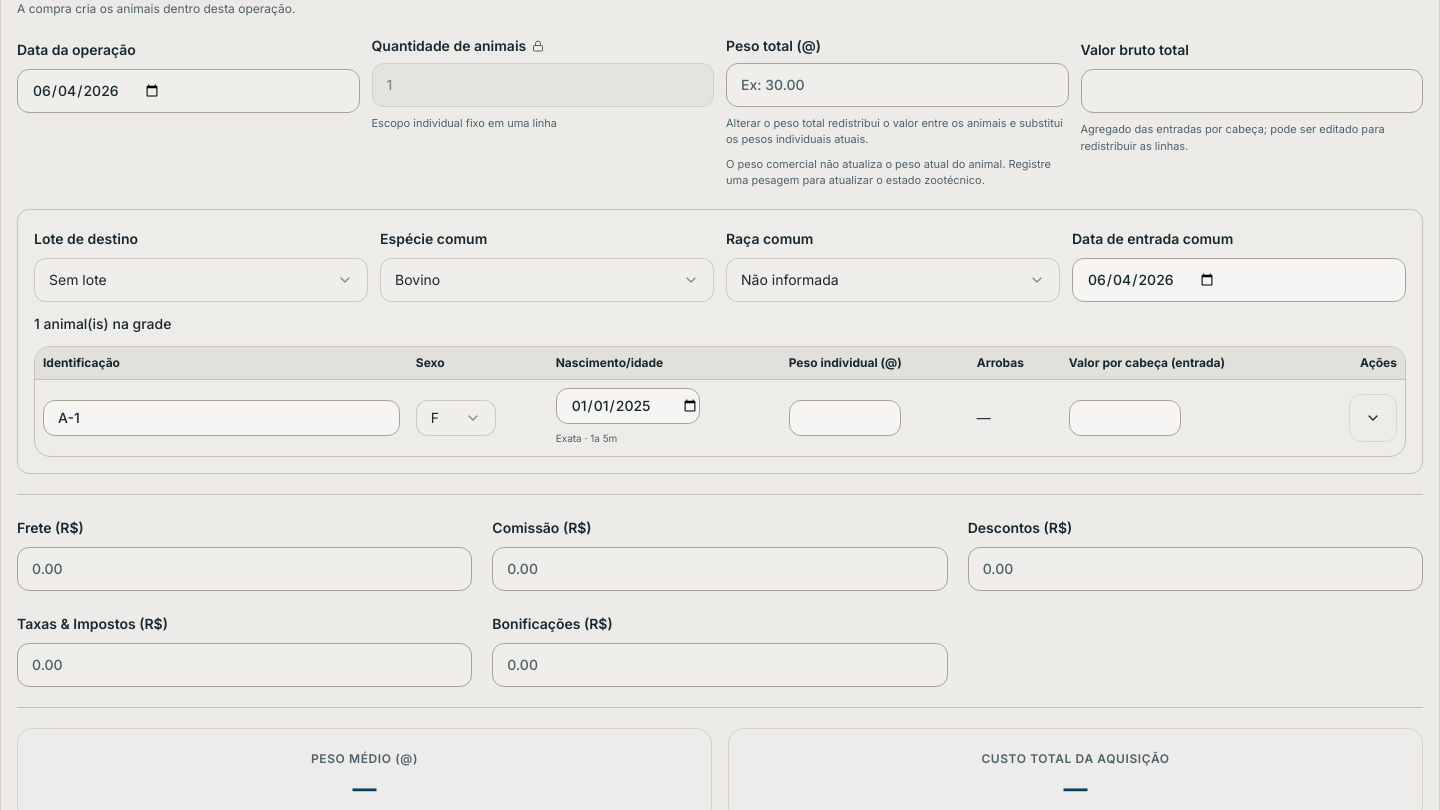
Test case: RegistrarComercialSection › identifica nascimento exato e categoria somente quando derivável
(page scrolled)
Step 1. Type "2025-03-04" into the date field named "Nascimento animal 1" → (628, 406), box [556,388,700,424]
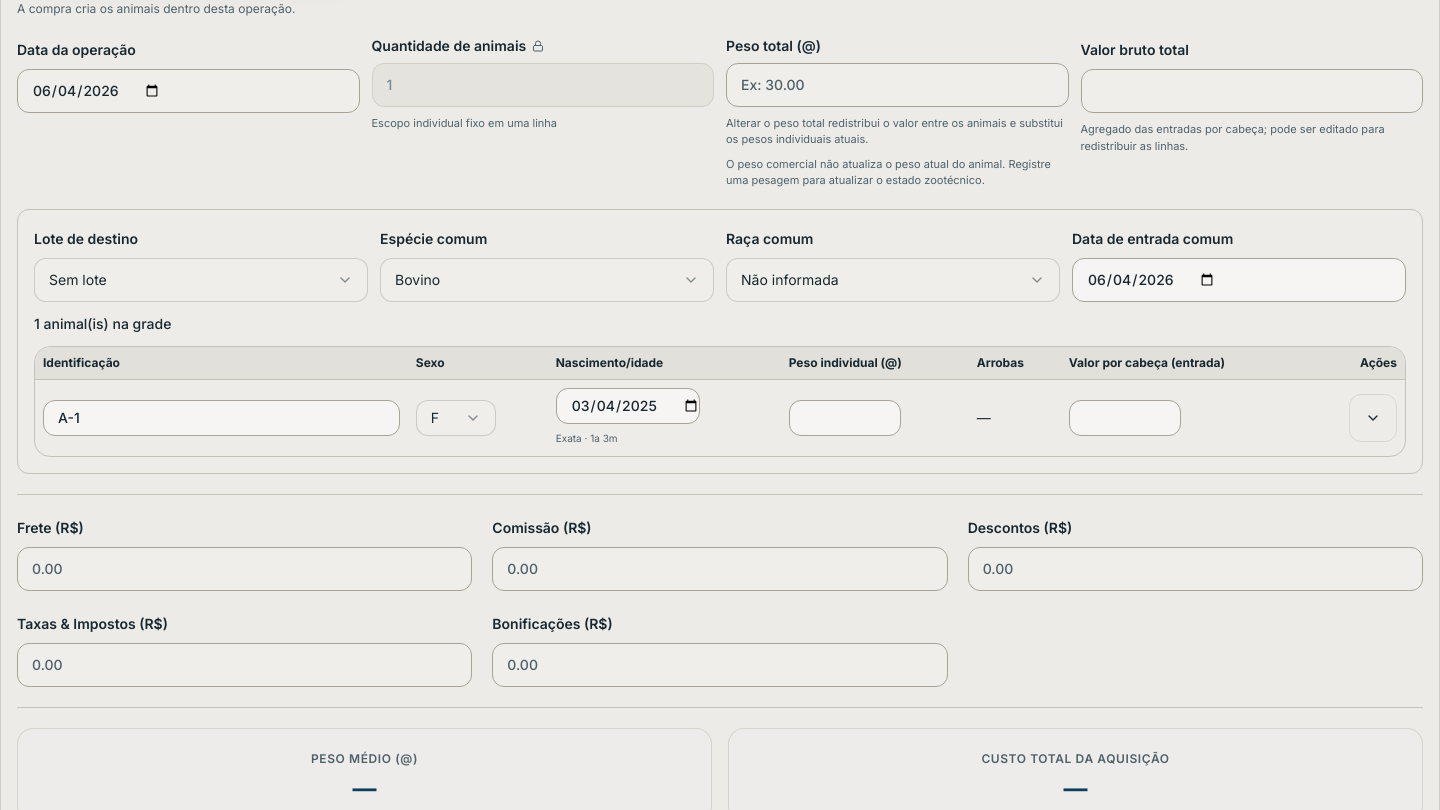
Expected: the text "Exata · 1a 3m" is shown, [556,432,618,444]
Step 2. Click the button named "Detalhes animal 1" → click(1373, 418), box [1349,394,1397,442]
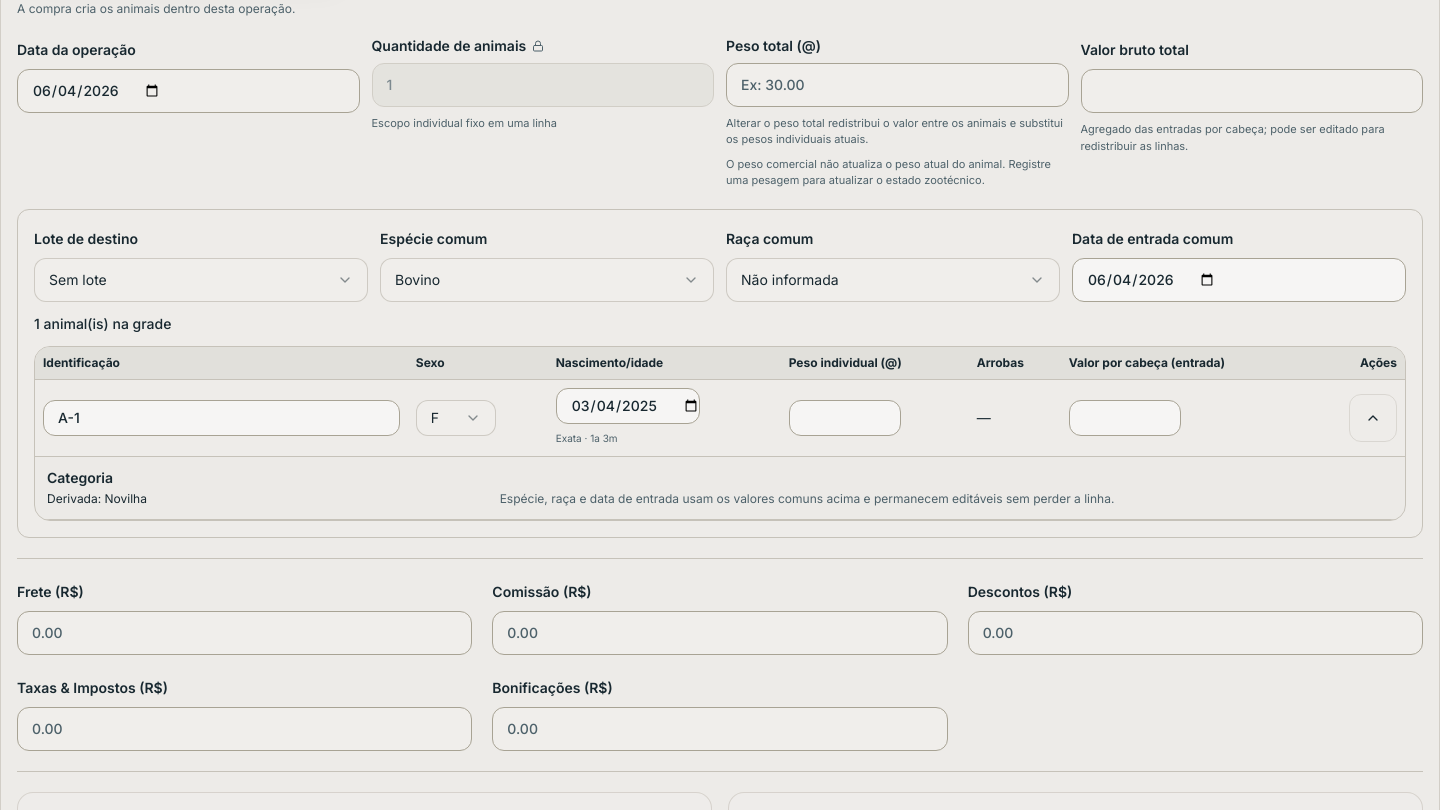
Now the text "Derivada: Novilha" is shown, box [47,490,147,506]
